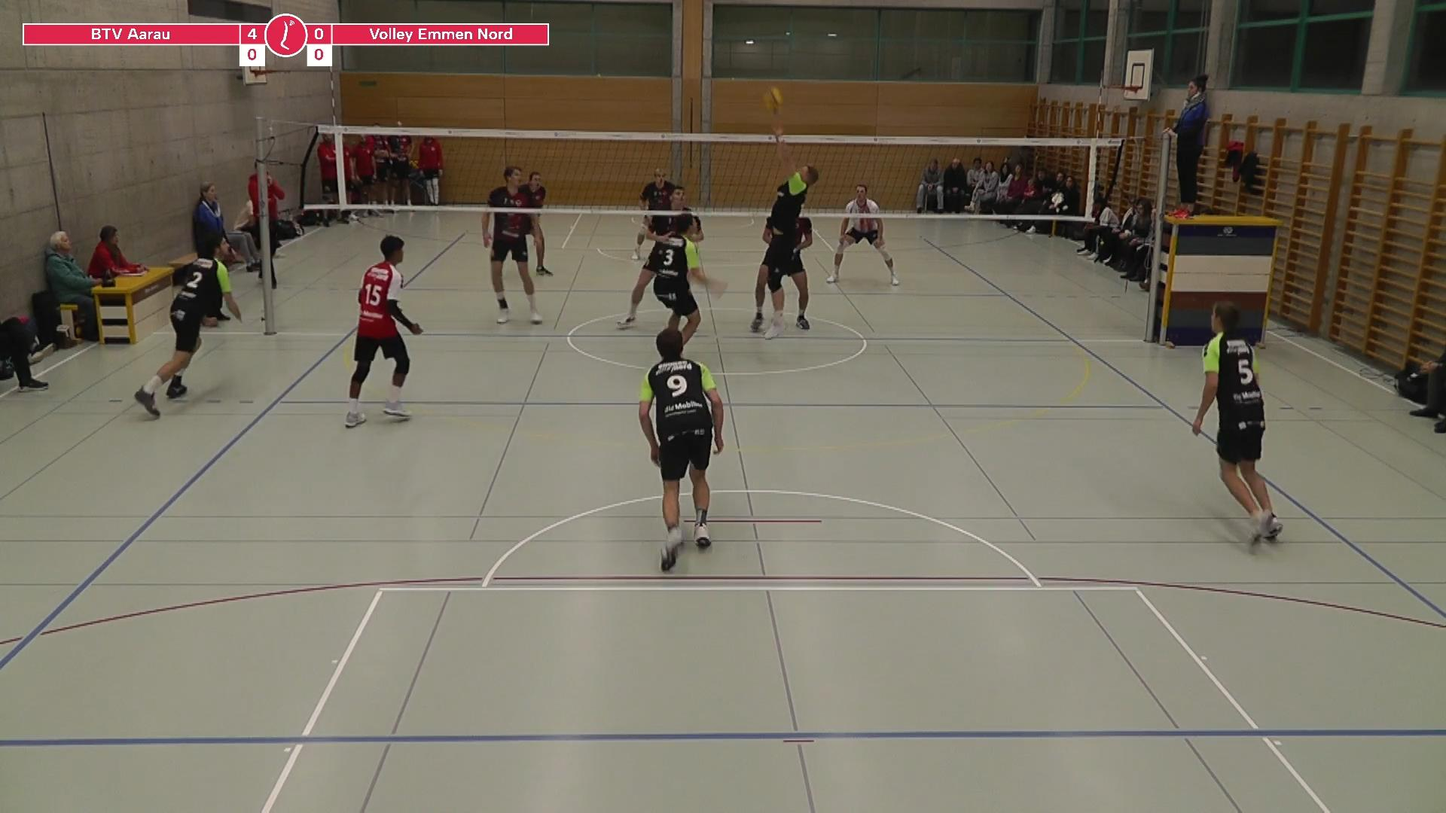Player: (1192, 302, 1282, 546), (639, 327, 724, 571), (134, 233, 243, 416), (345, 236, 422, 427), (618, 214, 722, 343), (826, 184, 899, 285), (484, 212, 542, 324), (755, 218, 812, 330), (639, 169, 675, 211), (530, 214, 553, 276), (669, 185, 691, 212)
Set: (751, 128, 835, 341)
ball: (754, 82, 786, 112)
